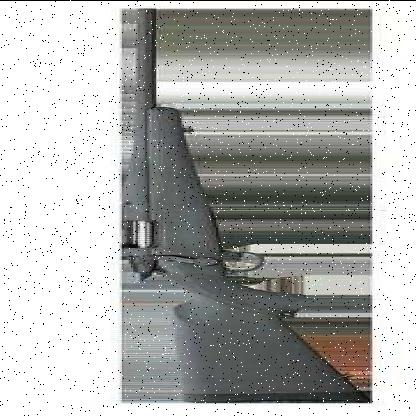rifle: (108, 6, 375, 409)
